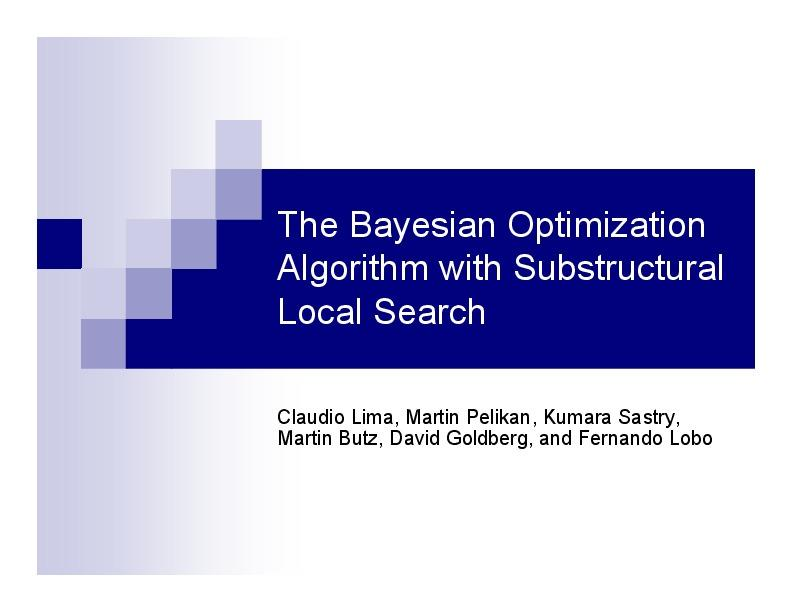title: (263, 199, 735, 343)
